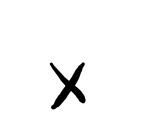mult: (50, 62, 86, 110)
